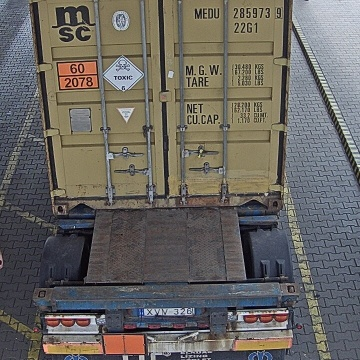serial_id: (195, 7, 283, 18)
